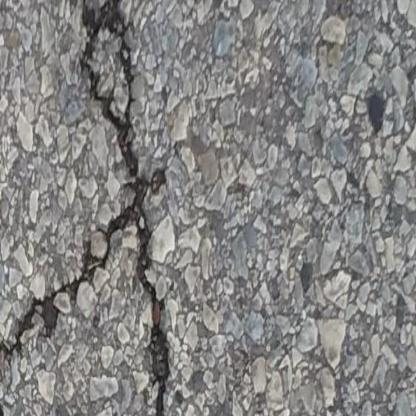Cracks: (0, 0, 174, 416)
